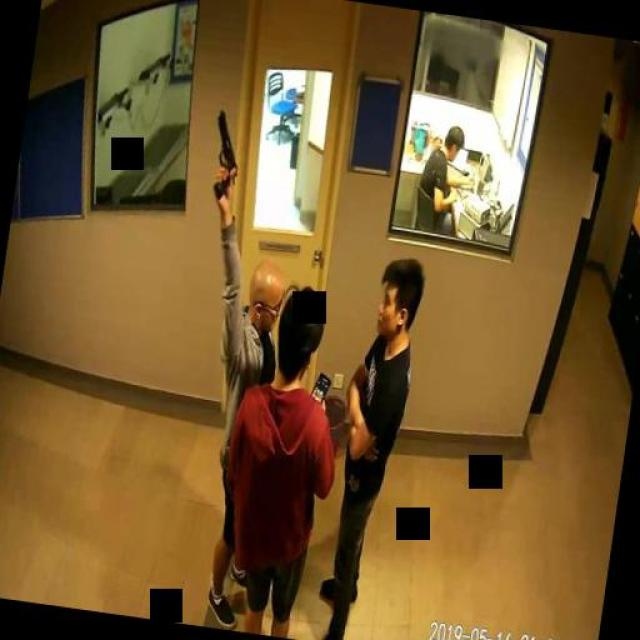gun: (206, 111, 242, 198)
